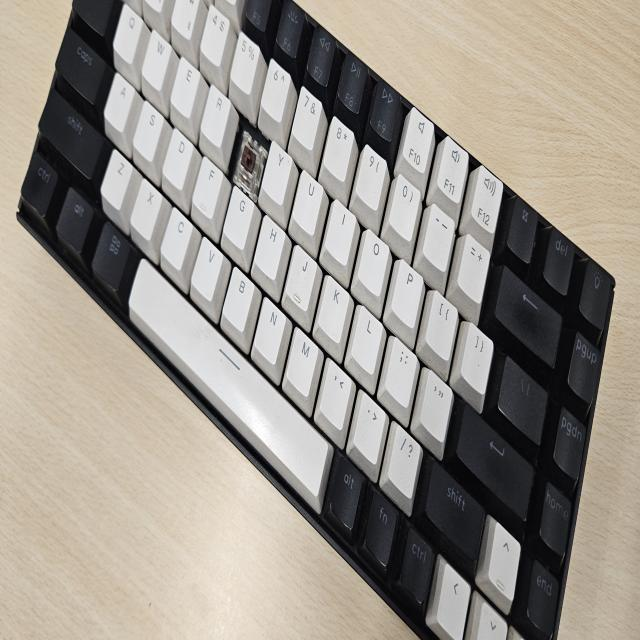C: (238, 126, 258, 185)
